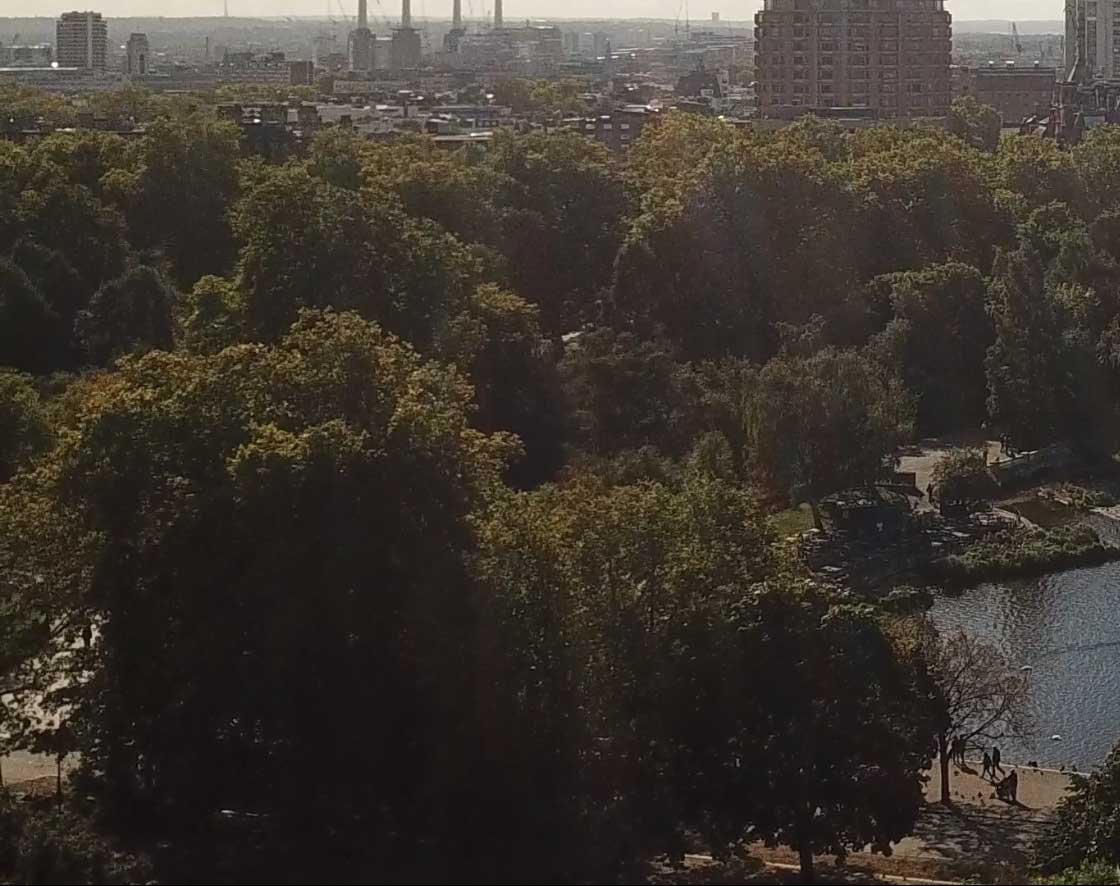building: (739, 2, 963, 124)
trees: (53, 338, 901, 822), (17, 125, 1113, 416)
water: (914, 519, 1120, 752)
